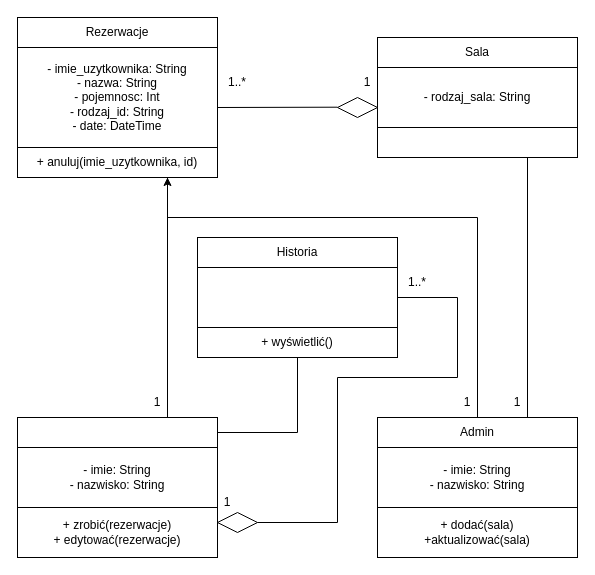
This 595x575 diagram has some shape labels left out. The centre of each missing label's shape, as x and y in pixels:
"+ usuń(id)" goes at pixel 477 142.
"- opis: String" goes at pixel 297 297.
"Użytkownik" goes at pixel 117 432.
